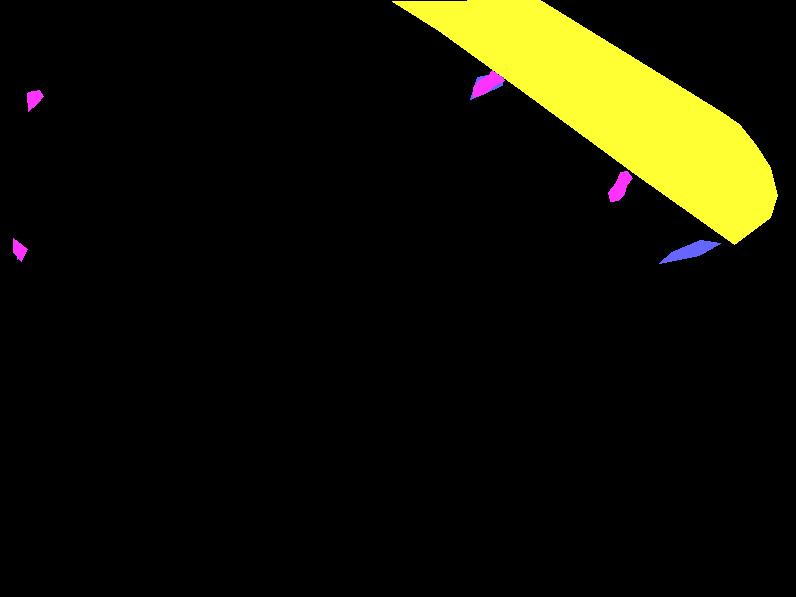Cracked: (392, 0, 777, 244)
Dent: (473, 70, 504, 97), (608, 171, 632, 201), (27, 90, 43, 111), (13, 238, 27, 261)
Scratch: (659, 240, 720, 263), (470, 74, 503, 99), (16, 248, 22, 259)
